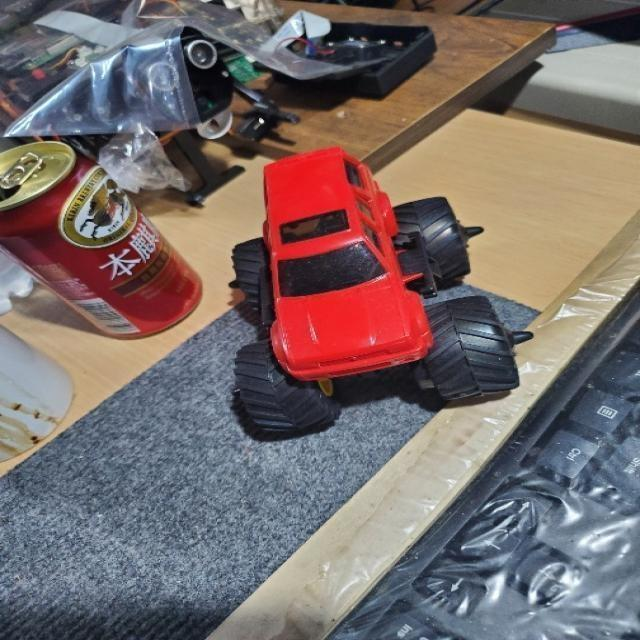Car: (202, 129, 562, 460)
